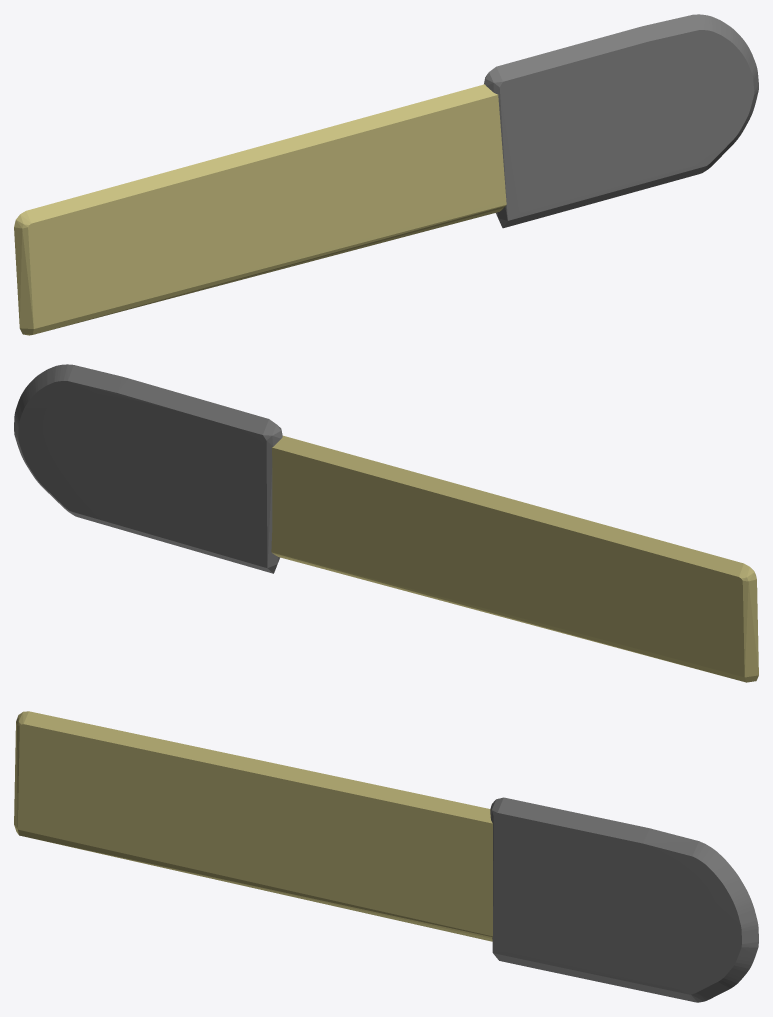
File: switch-hand.glb
The picture shows the model from 3 angles, top to bottom: view 1: azimuth 30°, elevation 25°; view 2: azimuth 150°, elevation 25°; view 3: azimuth 330°, elevation 25°; orthographic projection.
Parts seen in each view (by area): view 1: Object_4.003; view 2: Object_4.003; view 3: Object_4.003.
Part boxes in pixels (bbox=[...]): Object_4.003: bbox=[14, 14, 758, 335]; Object_4.003: bbox=[14, 364, 758, 682]; Object_4.003: bbox=[14, 711, 758, 1002].
Bounding box in the file's own units: 0.2486 × 0.0524 × 0.0106.
